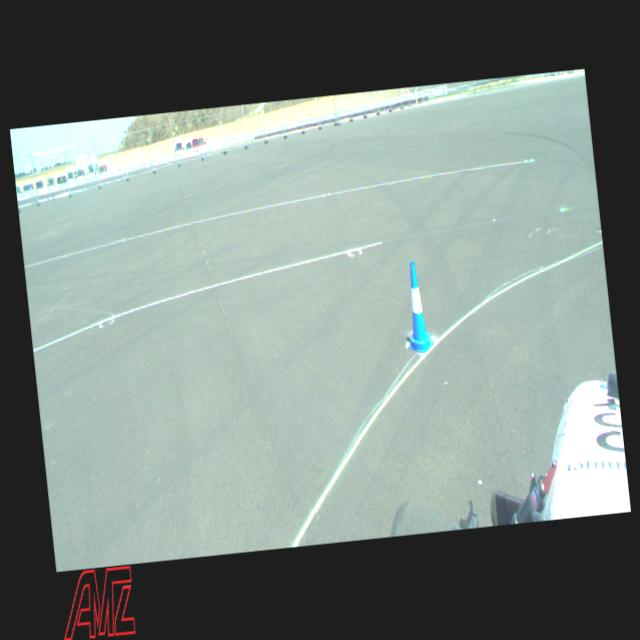blue_cone: (399, 258, 434, 354)
